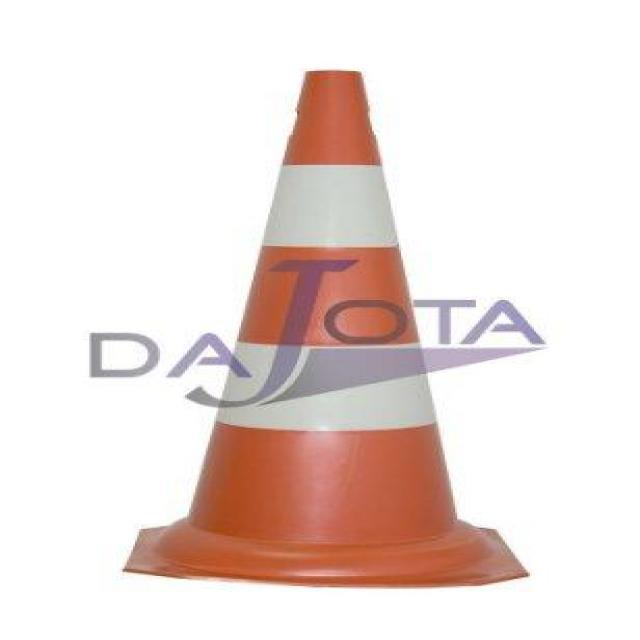cone: (132, 64, 532, 579)
